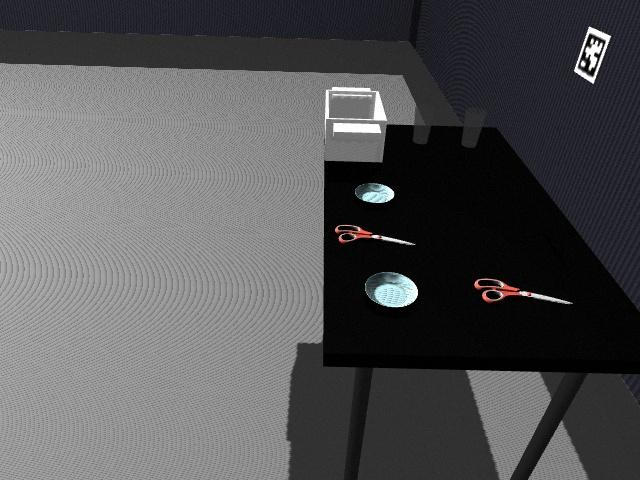cup: (461, 106, 487, 149), (412, 115, 431, 145)
plate: (363, 271, 421, 310), (354, 182, 396, 204)
scissors: (473, 277, 573, 307), (335, 224, 415, 247)
